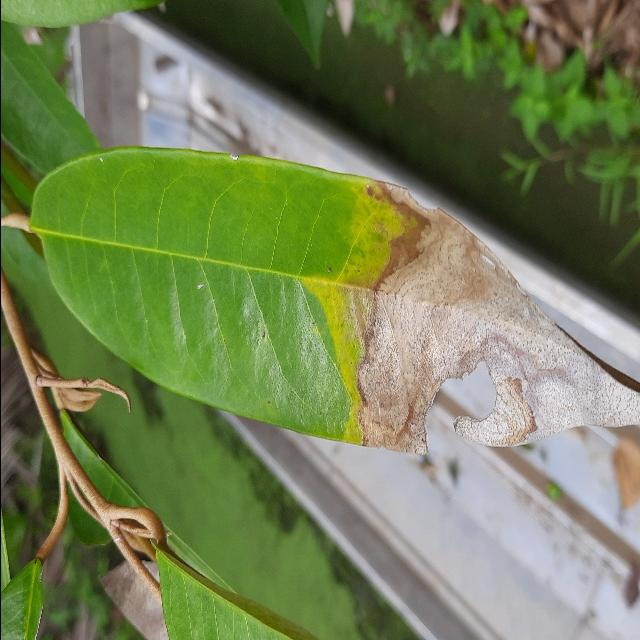Leaf Blight: (19, 139, 640, 466)
